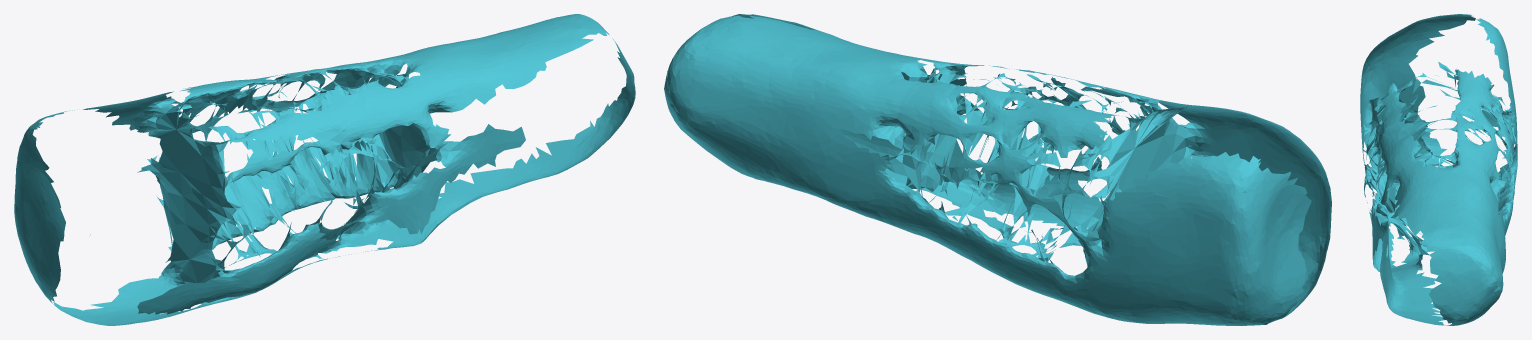
3 views of the same model, side by side, from view 1: azimuth 30°, elevation 25°; view 2: azimuth 150°, elevation 25°; view 3: azimuth 270°, elevation 25° (orthographic). The views are drawn at different scales.
Visible parts, largest first — view 1: Renderer Node; view 2: Renderer Node; view 3: Renderer Node.
Boxes of the visible parts, x1=… form: Renderer Node: x1=14, y1=14, x2=635, y2=325; Renderer Node: x1=664, y1=14, x2=1331, y2=325; Renderer Node: x1=1360, y1=14, x2=1517, y2=325.
Size of the model in its own units: 0.7551 by 0.2363 by 0.2181.
1 material, 1 textured.
